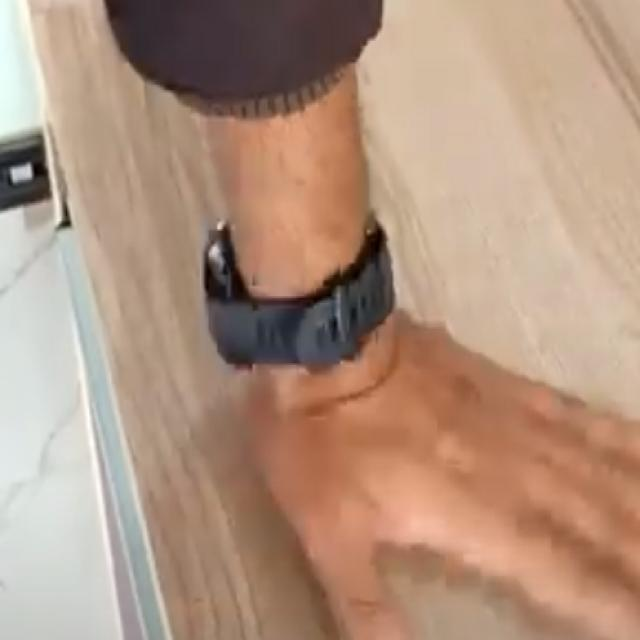Watch: (202, 214, 398, 371)
